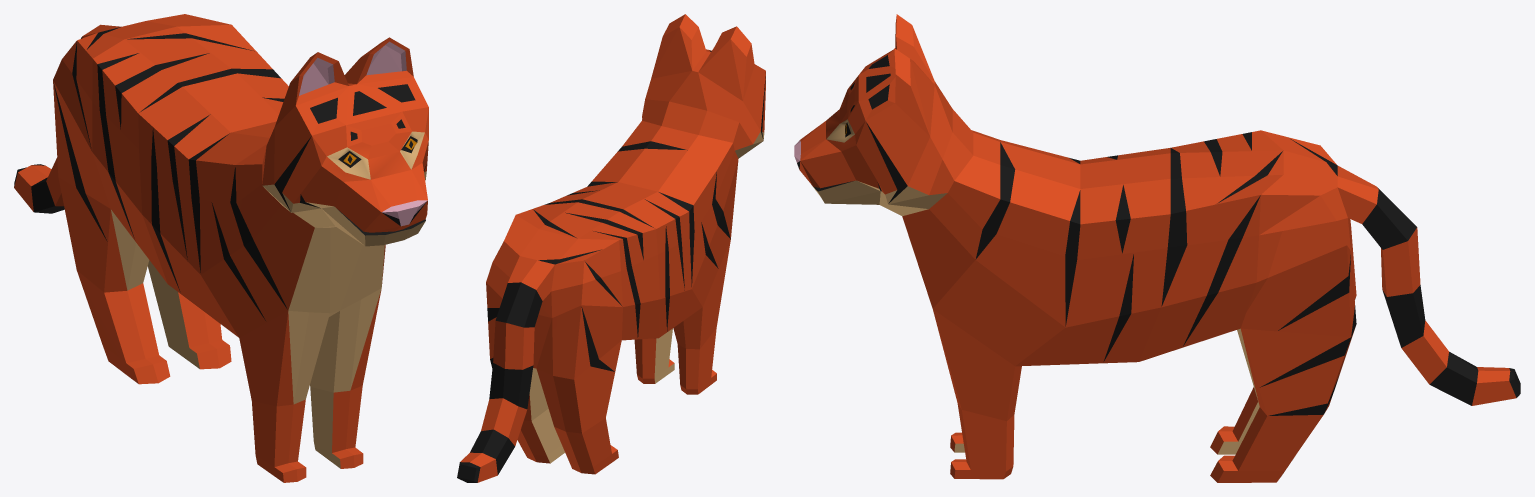
The model's file is Tiger_01.fbx.
The picture shows the model from 3 angles, left to right: view 1: azimuth 30°, elevation 25°; view 2: azimuth 150°, elevation 25°; view 3: azimuth 270°, elevation 25°; orthographic projection. The views are drawn at different scales.
Parts seen in each view (by area): view 1: Tiger_01; view 2: Tiger_01; view 3: Tiger_01.
Boxes of the visible parts, left/top/right/bottom form: Tiger_01: left=14, top=14, right=428, bottom=482; Tiger_01: left=457, top=14, right=765, bottom=482; Tiger_01: left=794, top=14, right=1520, bottom=482.
Size of the model in its own units: 4.61 by 13.37 by 20.43.
